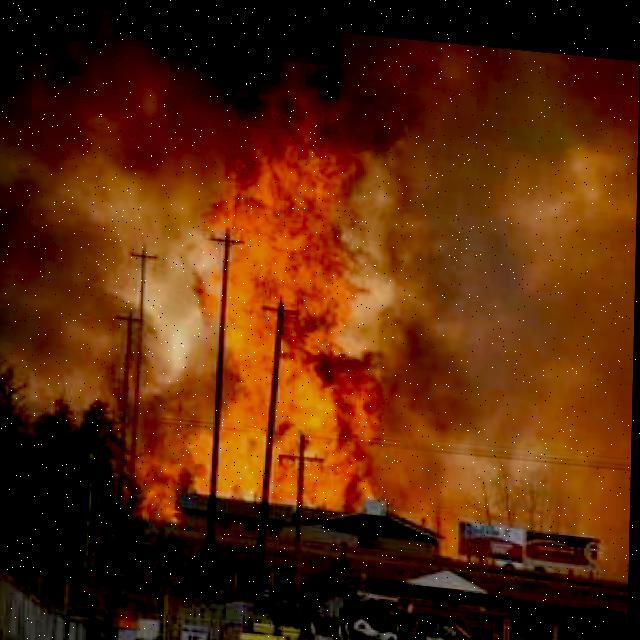Fire: (130, 113, 392, 531)
